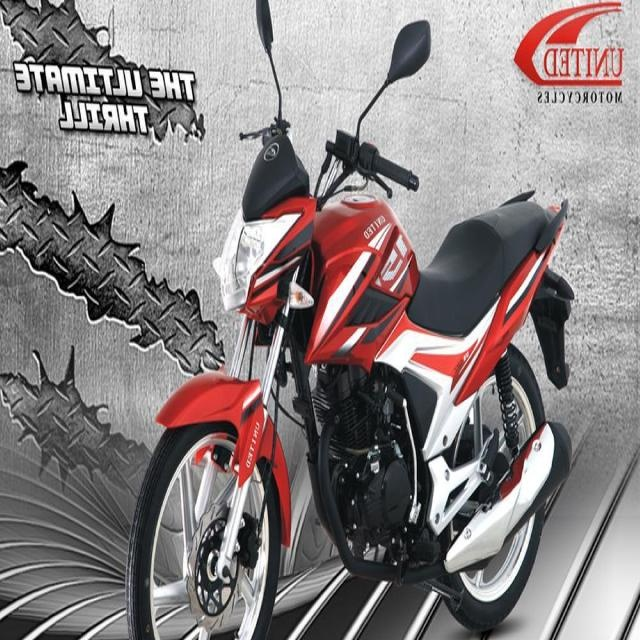motorcycle: (120, 2, 586, 638)
